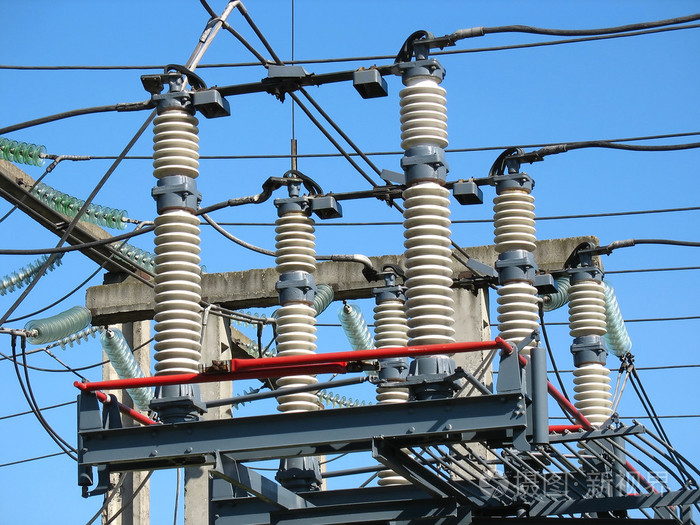insulator: (103, 330, 155, 410), (33, 183, 127, 226), (1, 252, 63, 297), (604, 282, 634, 359), (29, 306, 91, 343), (341, 306, 376, 359), (1, 134, 48, 167), (58, 326, 101, 353), (116, 245, 156, 272), (541, 276, 572, 308), (319, 390, 366, 409), (313, 285, 336, 311)
